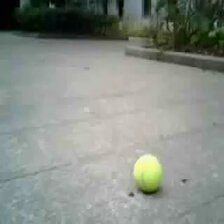tennis: (132, 154, 161, 191)
